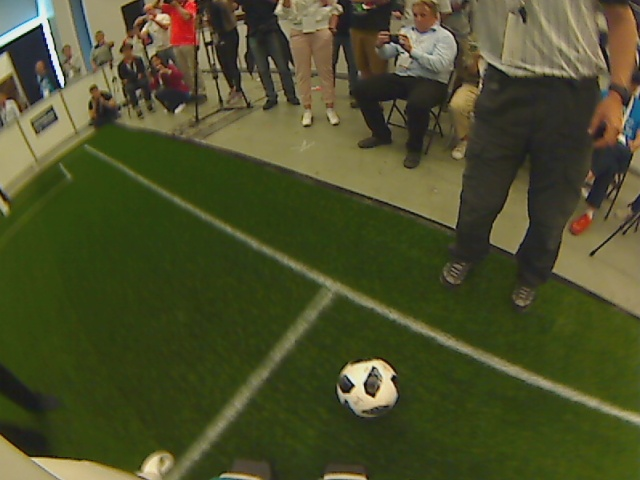ball: (335, 357, 400, 421)
